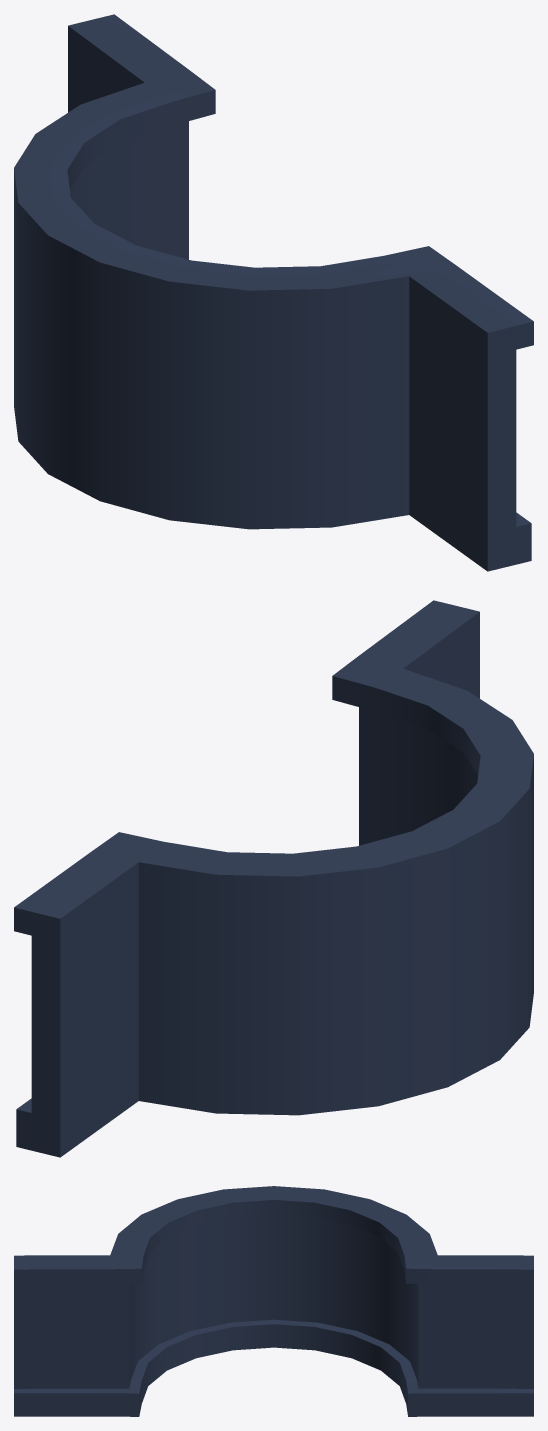
File: SR_front_display.fbx
3 views of the same model, one above another, from view 1: azimuth 30°, elevation 25°; view 2: azimuth 150°, elevation 25°; view 3: azimuth 270°, elevation 25° (orthographic). The views are drawn at different scales.
Parts seen in each view (by area): view 1: SR_front_display; view 2: SR_front_display; view 3: SR_front_display.
Part boxes in pixels (bbox=[...]): SR_front_display: bbox=[14, 14, 533, 571]; SR_front_display: bbox=[14, 600, 533, 1157]; SR_front_display: bbox=[14, 1186, 533, 1416].
Size of the model in its own units: 590 by 490 by 1554.
